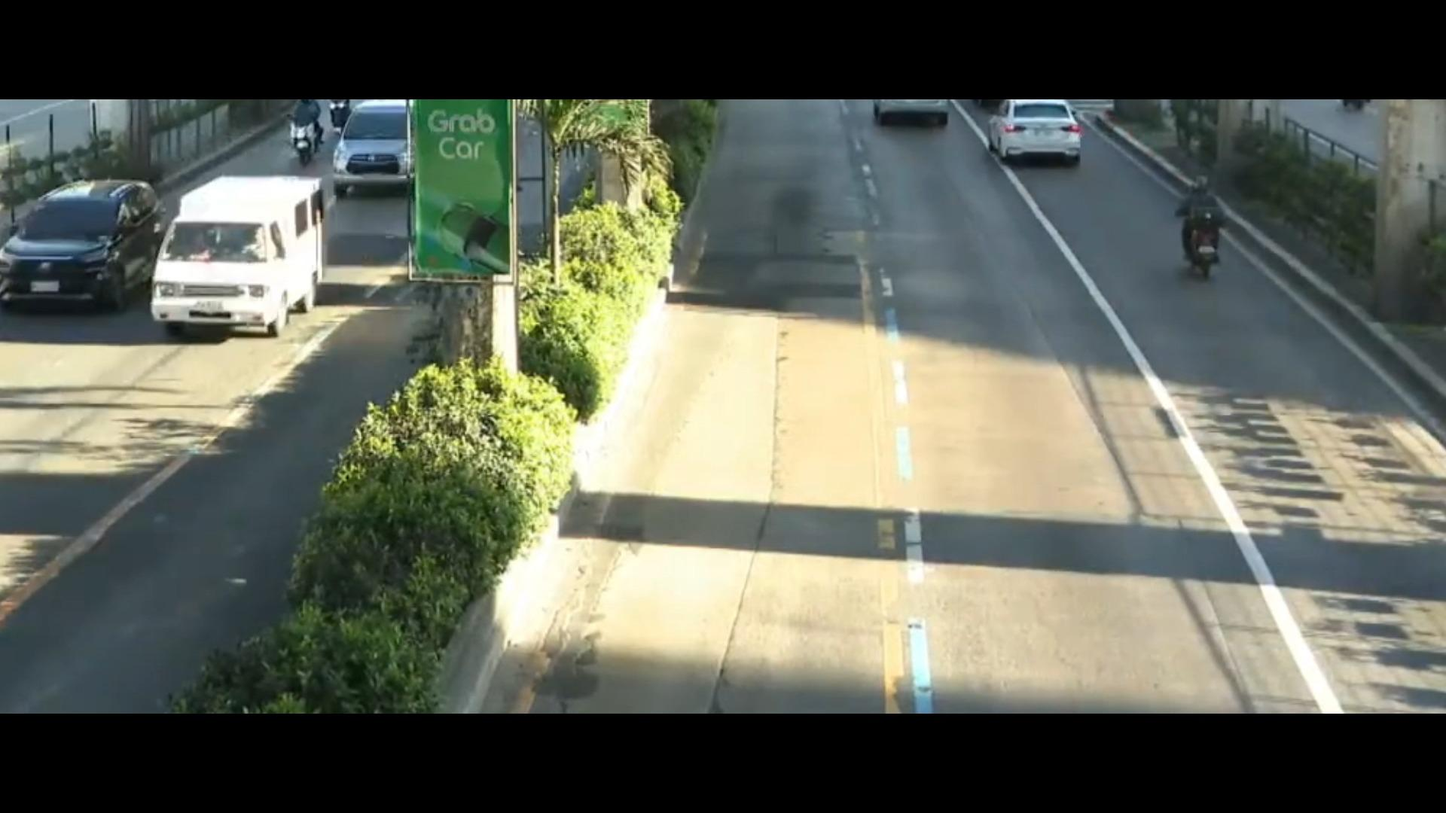Motorcycle: (1161, 172, 1249, 270), (283, 91, 334, 170)
Multicab: (106, 147, 336, 354)
SUV: (0, 168, 189, 309)
Sedan: (964, 99, 1100, 168)
Van: (324, 104, 418, 194)
